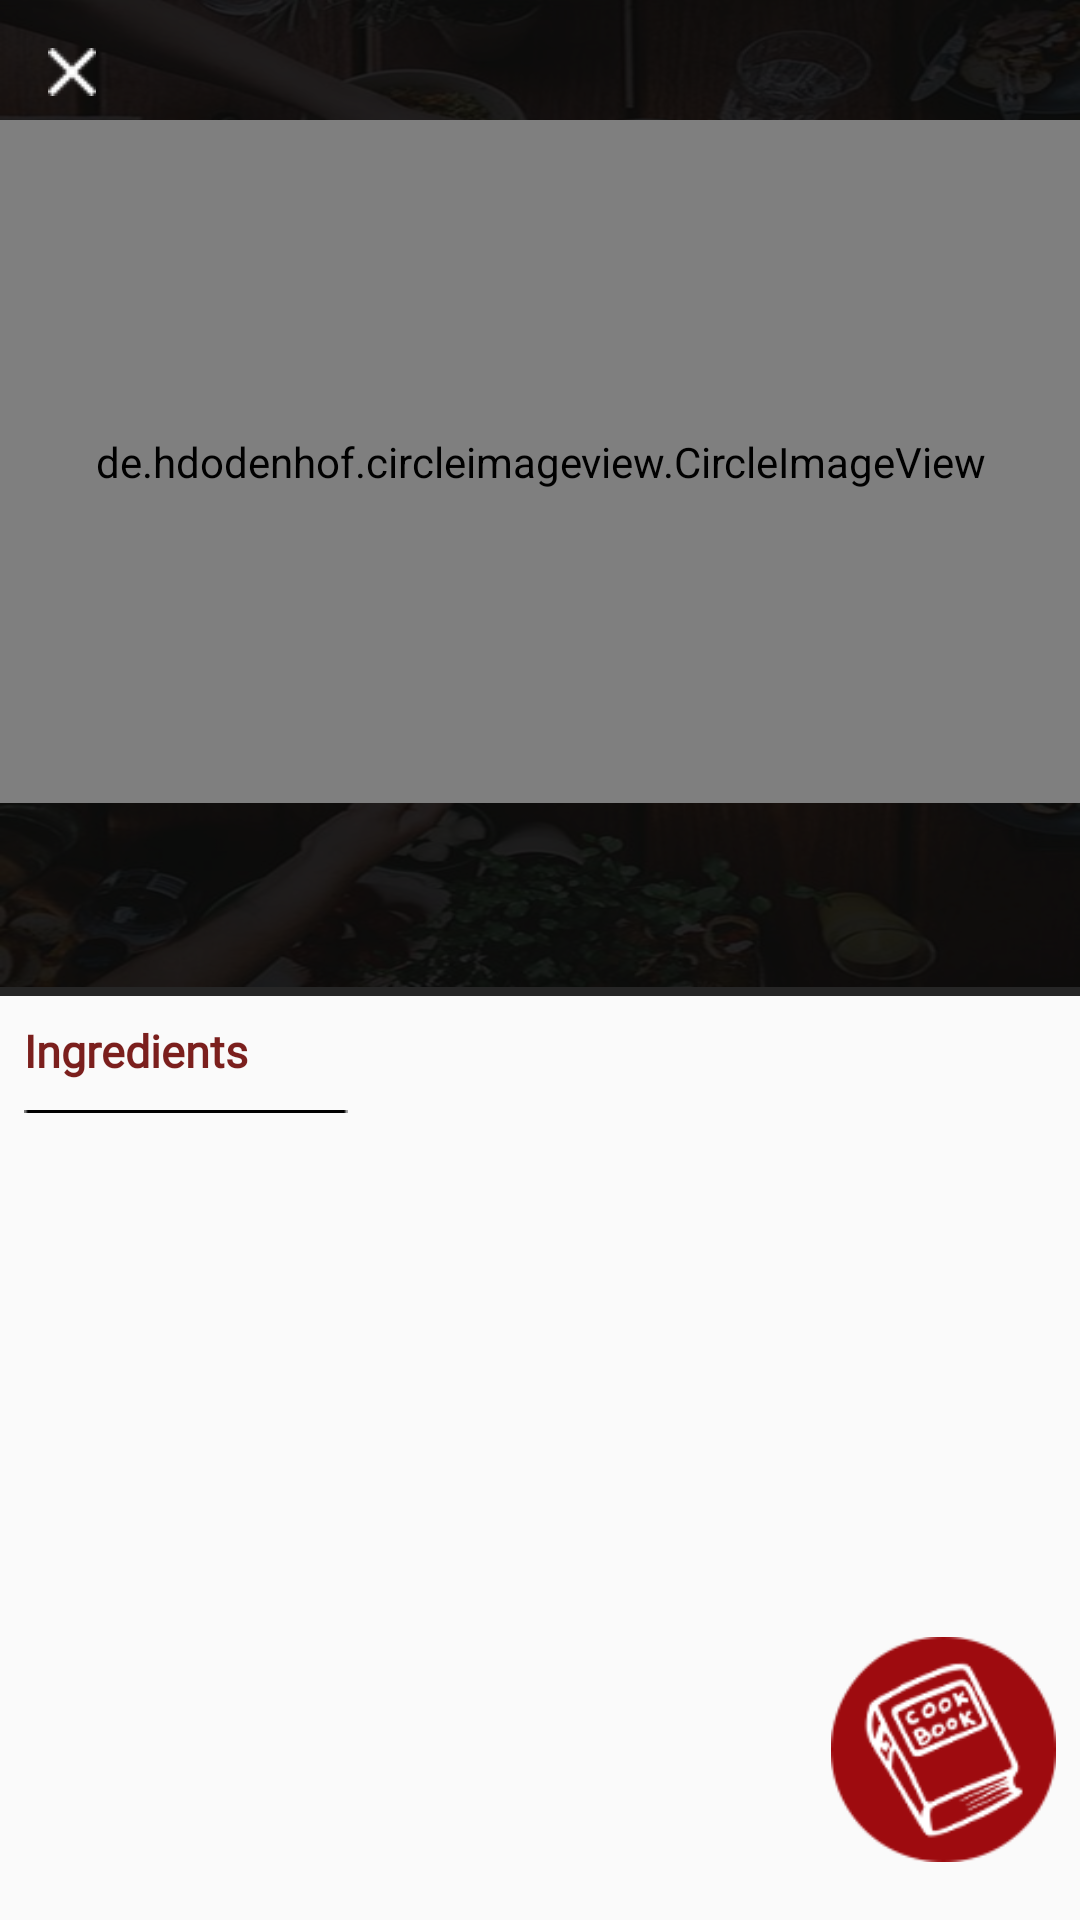

Point at icon controls on the screen. Image size 1080×1920, points as [x,y].
closebtn: [72,72]
